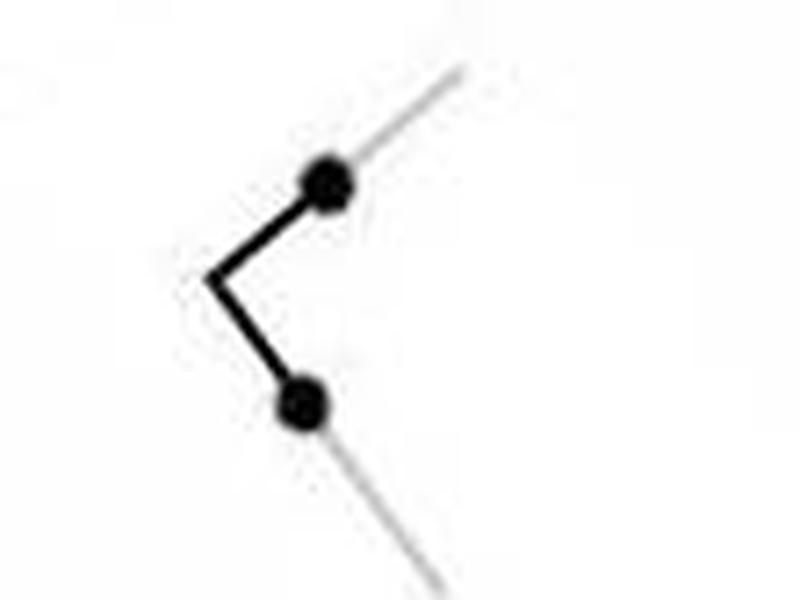butt_weld_90: (159, 64, 623, 595)
